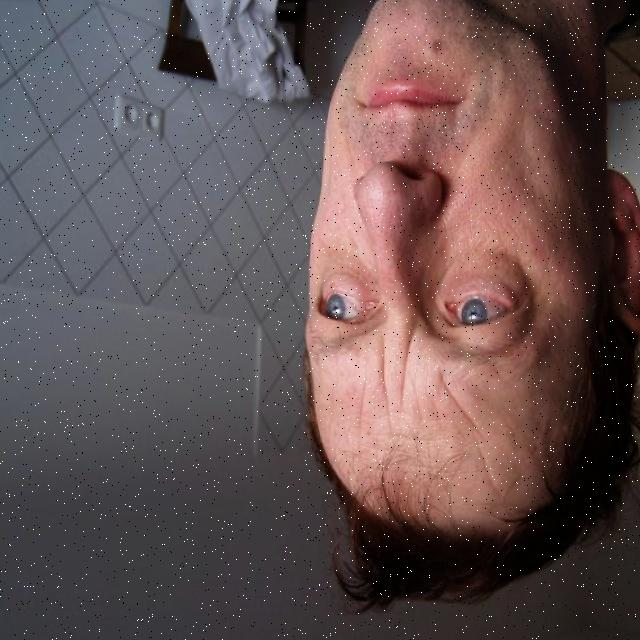puffy_eyes: (443, 253, 527, 300), (321, 256, 380, 298)
